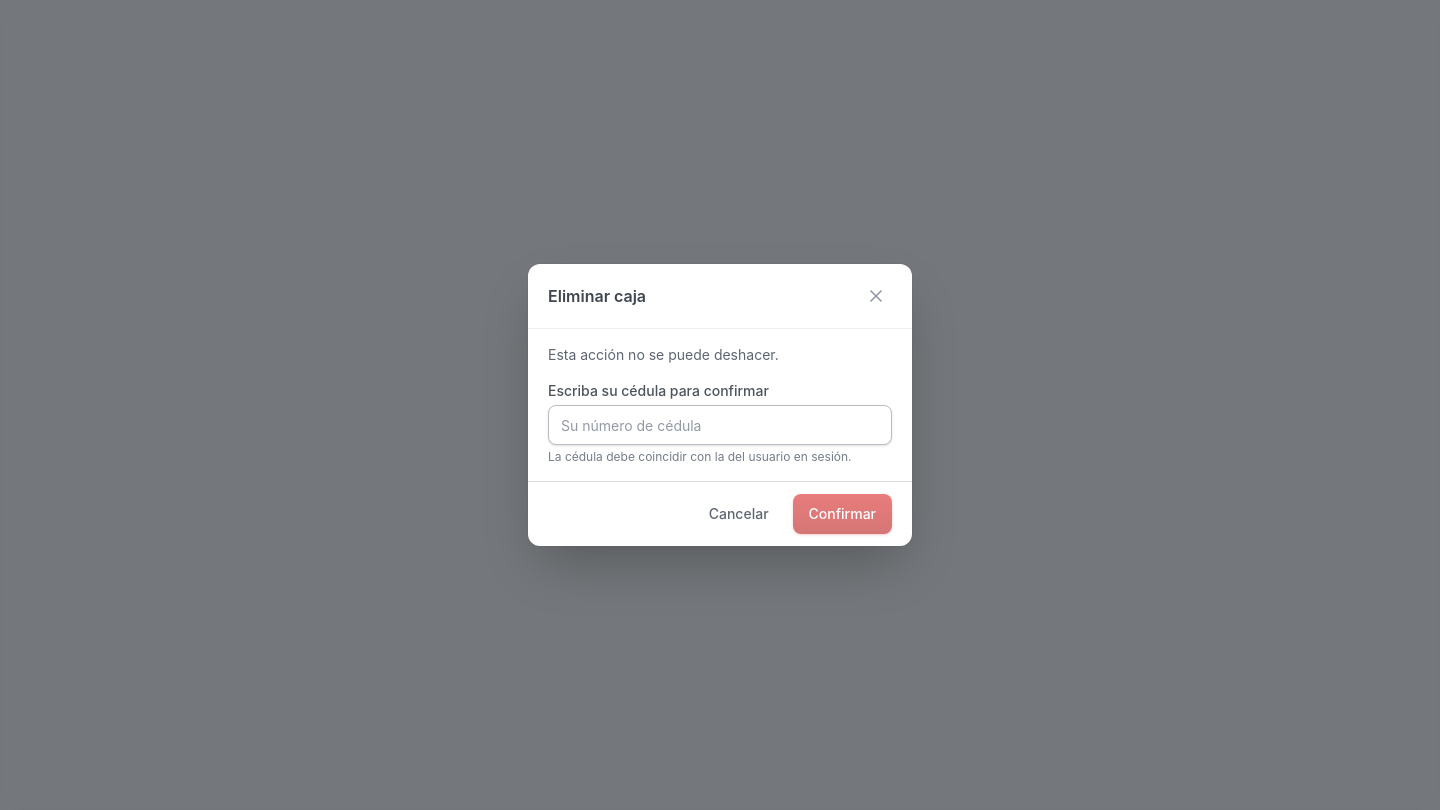
cuando hay que escribir la cédula › con la cédula de otro sigue bloqueado y lo dice
The width and height of the screenshot is (1440, 810).
Type "987654321" into the field labelled "Escriba su cédula para confirmar" at (720, 425), box [548,405,892,445]
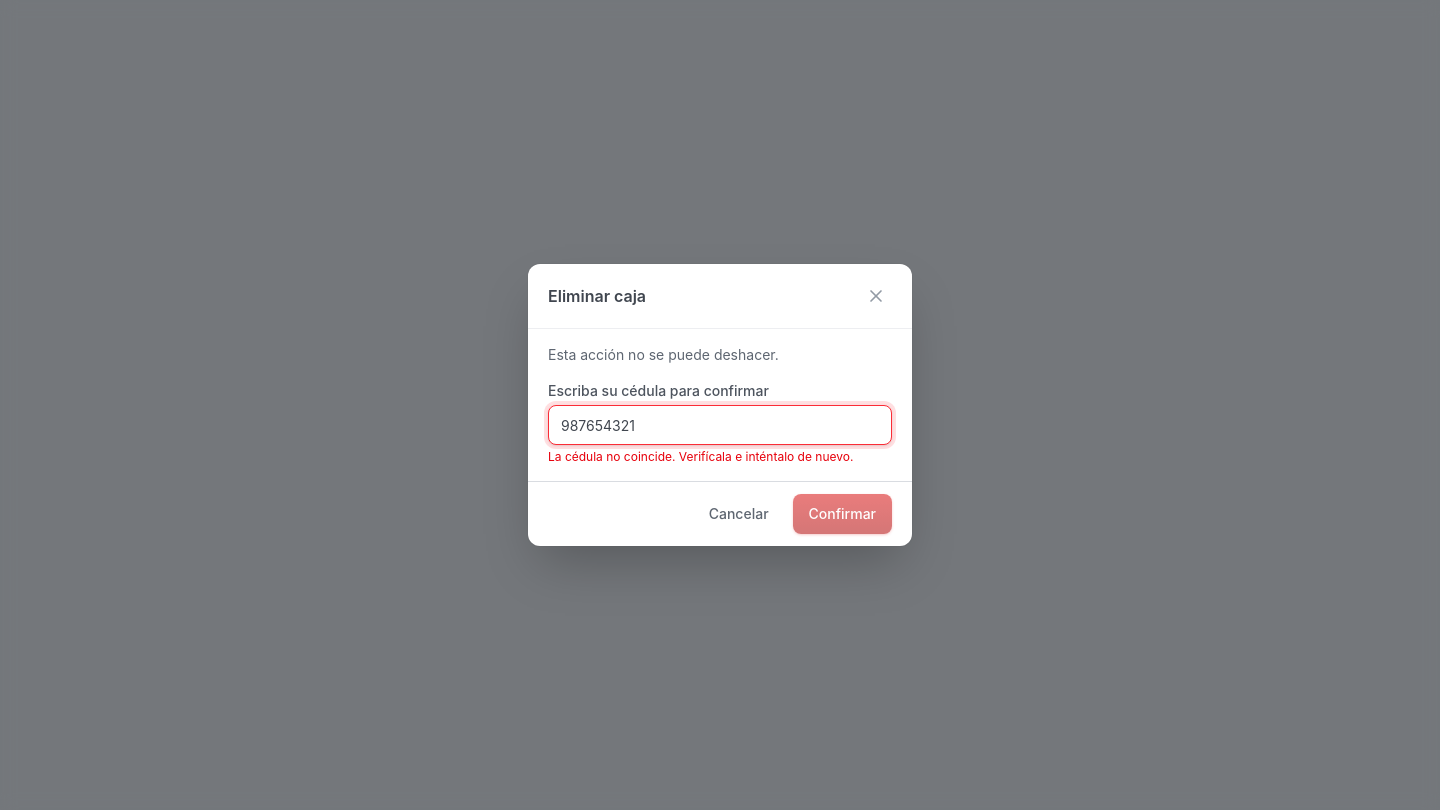
expect the button "Confirmar" is disabled: met, box [793,494,892,534]
expect the text "La cédula no coincide. Verifícala e inténtalo de nuevo." is shown: met, box [548,449,892,465]
